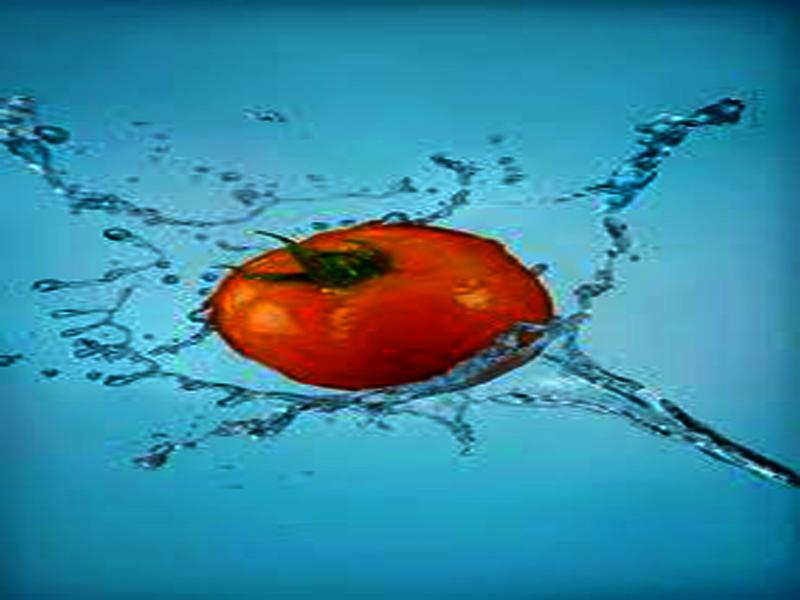Tomato: (208, 225, 551, 393)
